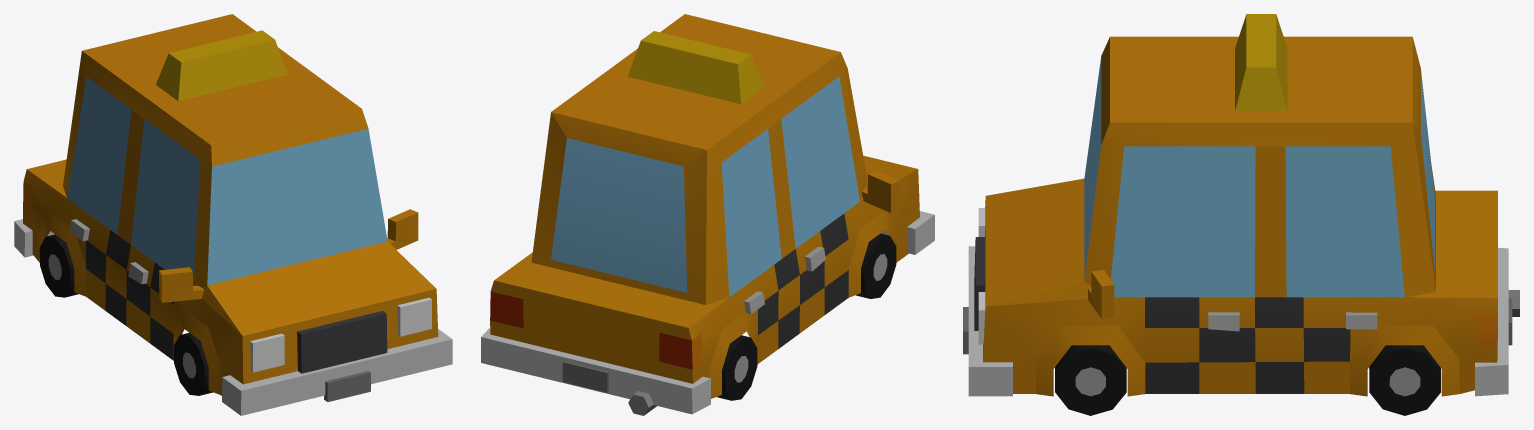
File: Car_05_yellow.fbx
3 renders of one model, left to right at view 1: azimuth 30°, elevation 25°; view 2: azimuth 150°, elevation 25°; view 3: azimuth 270°, elevation 25°, orthographic. The views are drawn at different scales.
Parts seen in each view (by area): view 1: Car_05_yellow; view 2: Car_05_yellow; view 3: Car_05_yellow.
Boxes of the visible parts, x1,y1,x2,y2 form: Car_05_yellow: (14, 14, 452, 415); Car_05_yellow: (481, 14, 934, 415); Car_05_yellow: (963, 14, 1519, 415).
Size of the model in its own units: 57.9 by 58.11 by 93.1.
